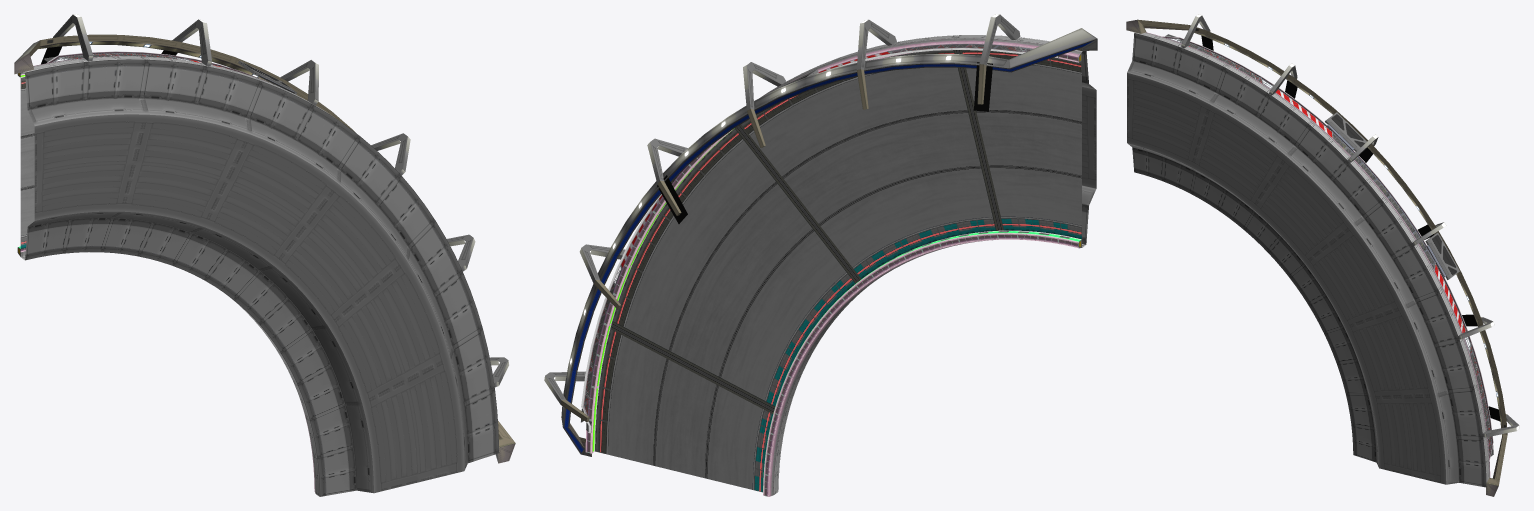
Rendered from T28 - Magnetic - Left.fbx.
The picture shows the model from 3 angles, left to right: view 1: azimuth 30°, elevation 25°; view 2: azimuth 150°, elevation 25°; view 3: azimuth 330°, elevation 25°; orthographic projection. The views are drawn at different scales.
Visible parts, largest first — view 1: standard_bridge6, mag_cage8, drift_road1, standard_arrow_left; view 2: drift_road1, mag_cage8, wall_drift, magnetic_road_lines, standard_bridge6, standard_arrow_left, light_bloom_night1; view 3: standard_bridge6, mag_cage8, standard_arrow_left, wall_drift, light_bloom_night1, prop_billboard_left, prop_billboard_left_1.
Boxes of the visible parts, x1=… form: standard_bridge6: x1=20, y1=56, x2=499, y2=496; mag_cage8: x1=14, y1=14, x2=515, y2=463; drift_road1: x1=20, y1=77, x2=34, y2=248; standard_arrow_left: x1=43, y1=51, x2=270, y2=83; drift_road1: x1=595, y1=50, x2=1081, y2=492; mag_cage8: x1=544, y1=14, x2=1097, y2=456; wall_drift: x1=585, y1=38, x2=1081, y2=496; magnetic_road_lines: x1=623, y1=67, x2=1081, y2=478; standard_bridge6: x1=760, y1=35, x2=1096, y2=494; standard_arrow_left: x1=581, y1=44, x2=1058, y2=433; light_bloom_night1: x1=657, y1=62, x2=992, y2=223; standard_bridge6: x1=1127, y1=32, x2=1489, y2=487; mag_cage8: x1=1126, y1=14, x2=1519, y2=496; standard_arrow_left: x1=1162, y1=34, x2=1493, y2=463; wall_drift: x1=1146, y1=32, x2=1490, y2=477; light_bloom_night1: x1=1201, y1=35, x2=1500, y2=421; prop_billboard_left: x1=1425, y1=232, x2=1459, y2=279; prop_billboard_left_1: x1=1325, y1=112, x2=1366, y2=151.
Bounding box in the file's own units: 12740 × 12742 × 2206.
